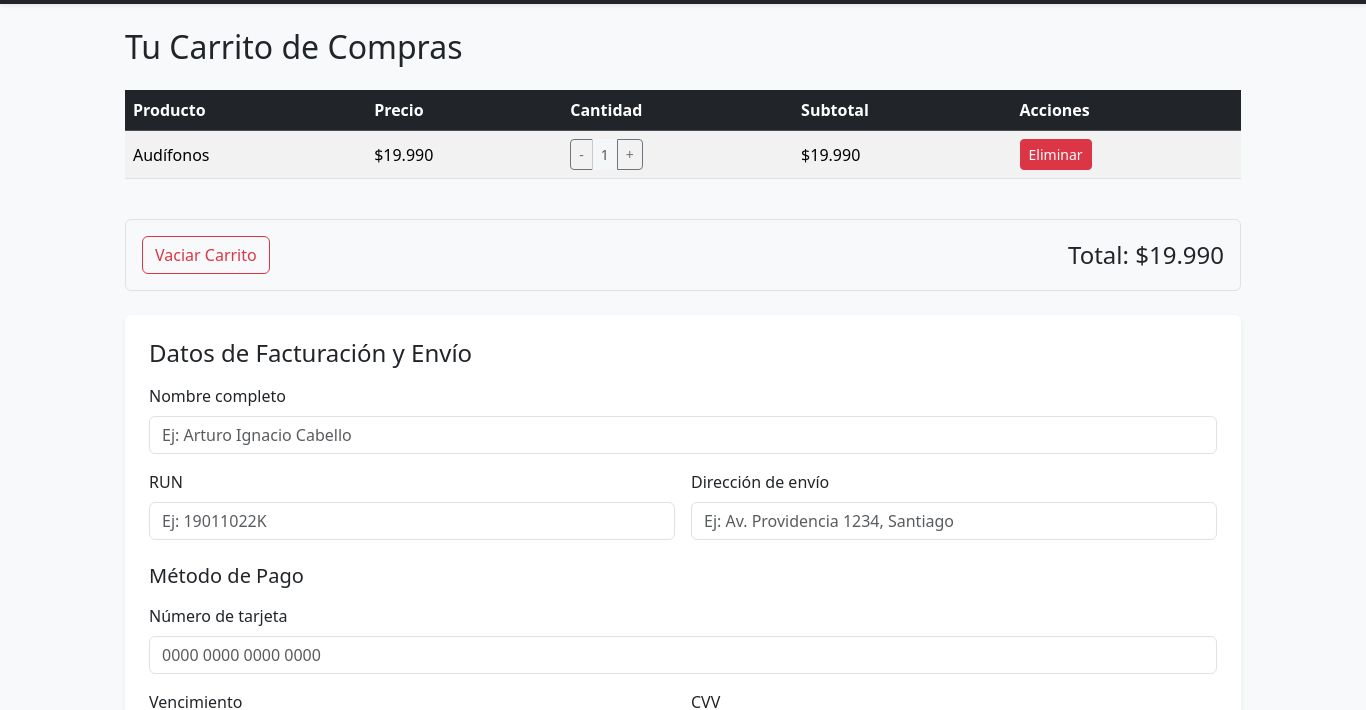
Scenario: Integración de la aplicación (App) › pagar el carrito vacía el carrito persistido
This screenshot has width=1366, height=710.
Type "Ana Pérez" into the field with test id "pago-nombre".
click(683, 435); type("Ana Pérez")  # box [149,416,1217,454]
Type "19011022K" into the field with test id "pago-run".
click(412, 521); type("19011022K")  # box [149,502,675,540]
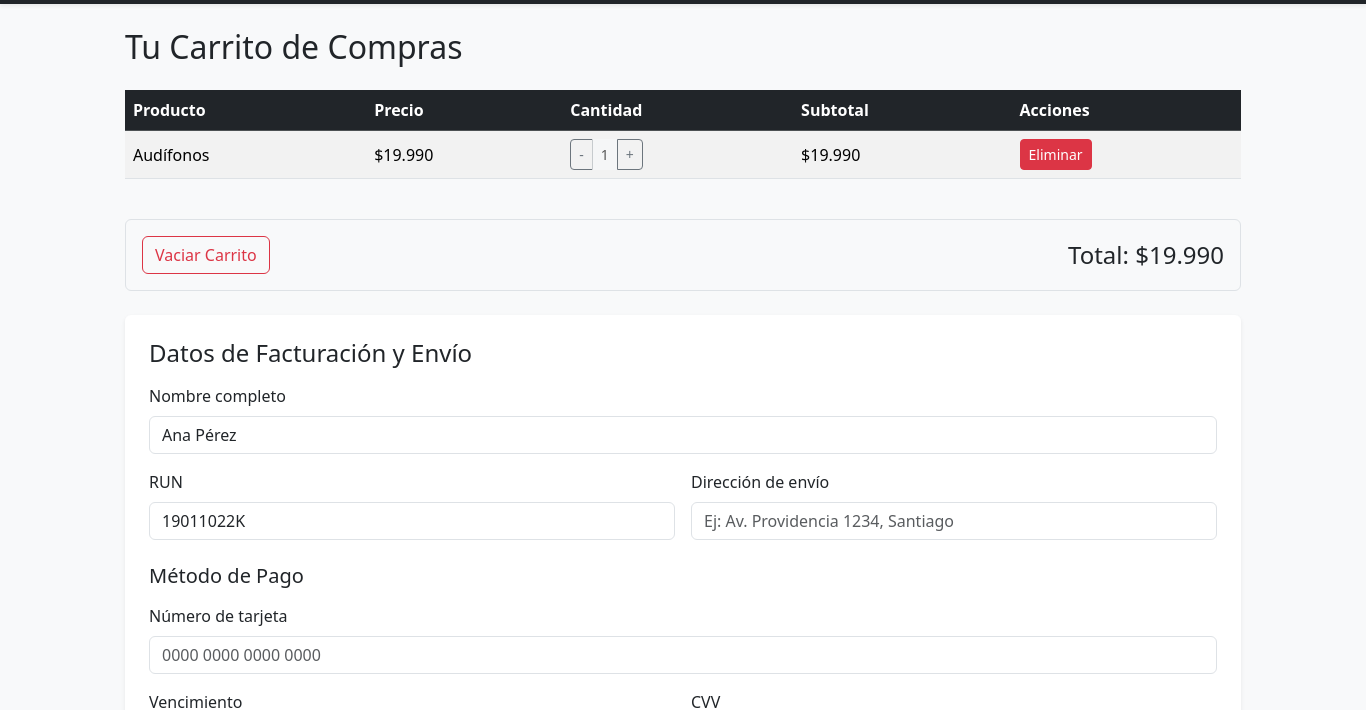
Type "Av. Providencia 123" into the field with test id "pago-direccion".
click(954, 521); type("Av. Providencia 123")  # box [691,502,1217,540]
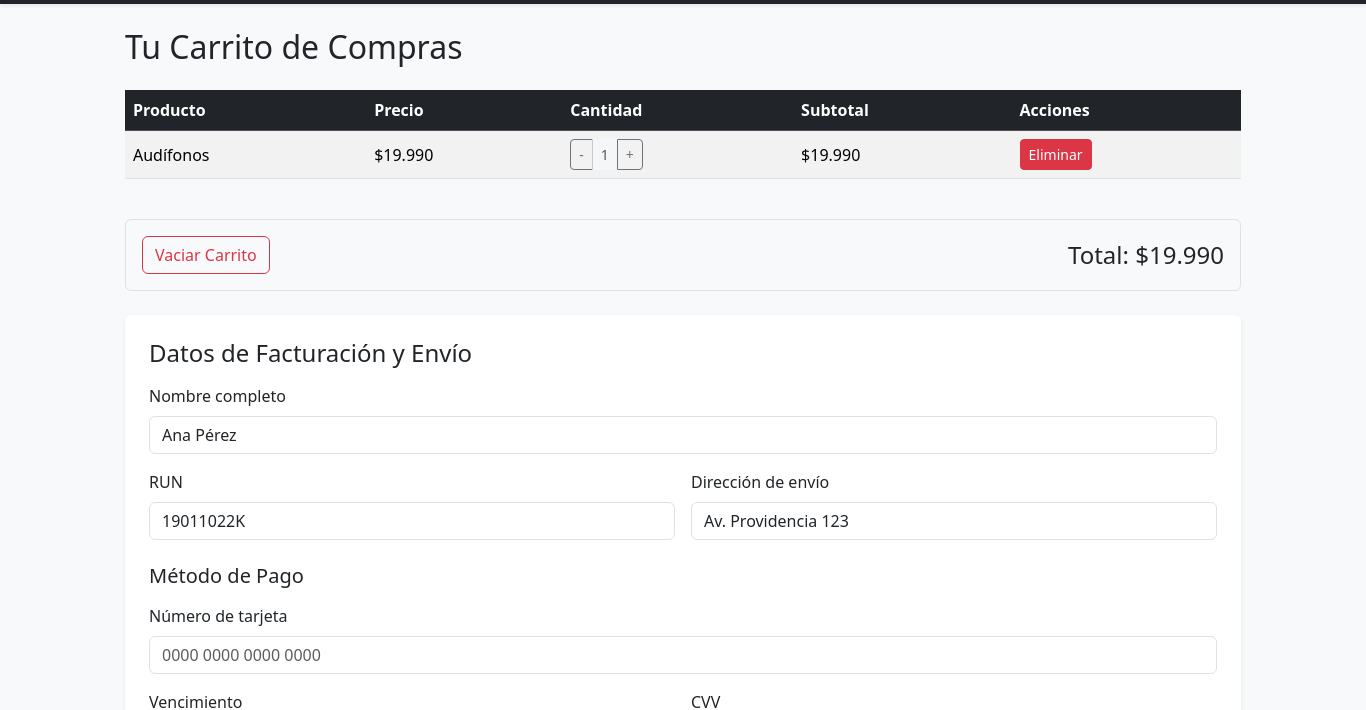
Type "1234567812345678" into the field with test id "pago-tarjeta".
click(683, 655); type("1234567812345678")  # box [149,636,1217,674]
(page scrolled)
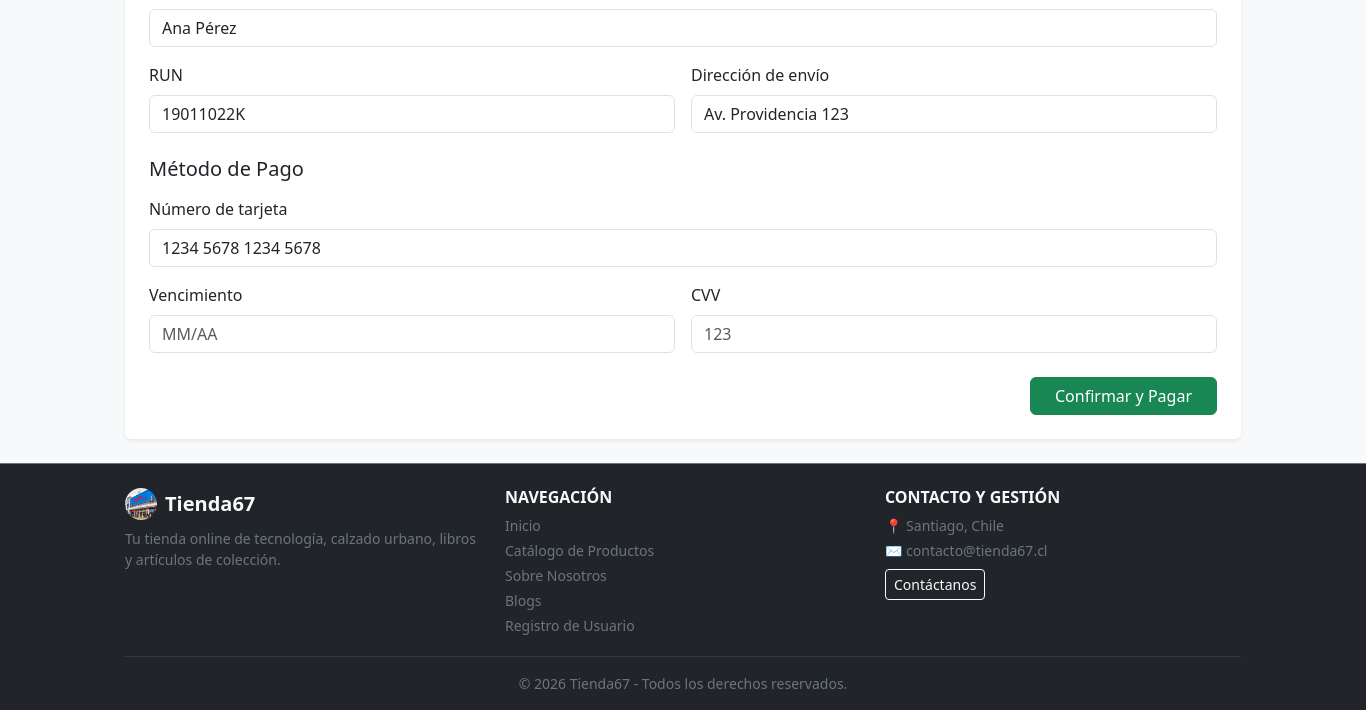
Type "1235" into the field with test id "pago-vencimiento".
click(412, 334); type("1235")  # box [149,315,675,353]
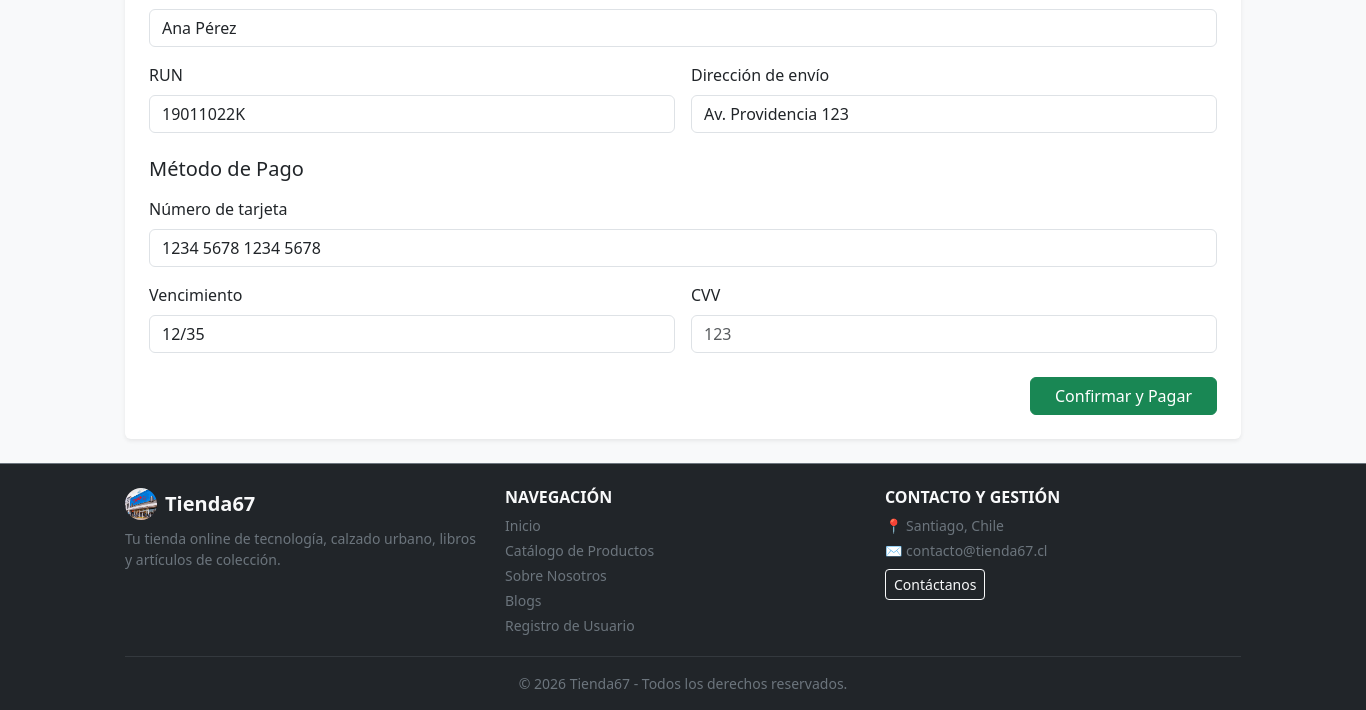
Type "123" into the password field with test id "pago-cvv".
click(954, 334); type("123")  # box [691,315,1217,353]
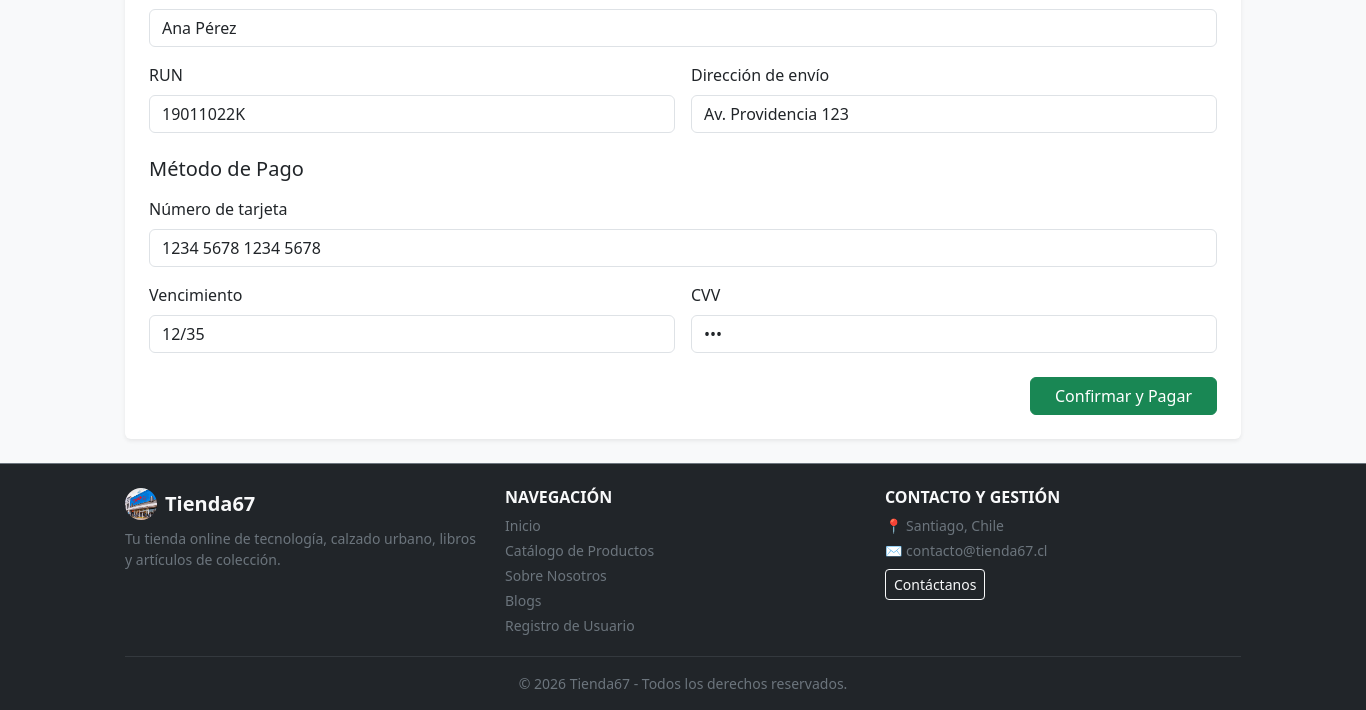
Click the button with test id "btn-pagar".
click(1124, 396)  # box [1030,377,1217,415]
(page scrolled)
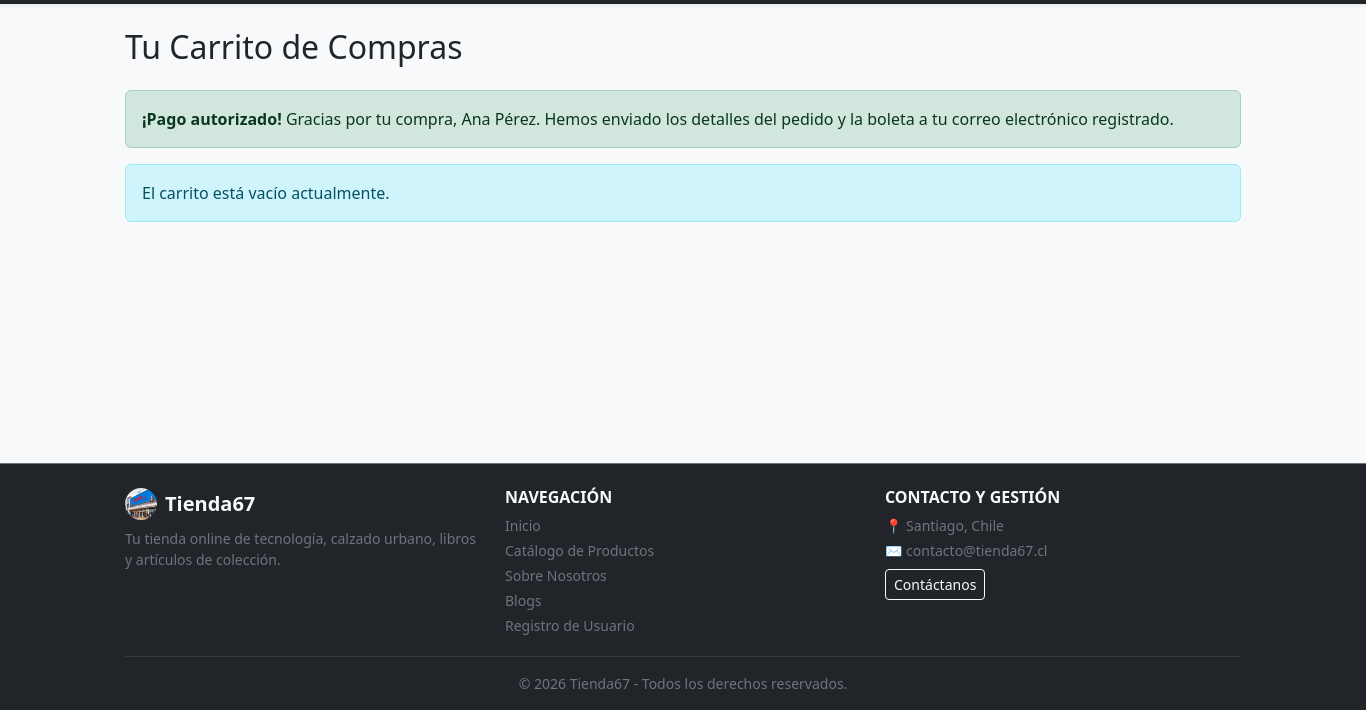
Result: the element with test id "pago-exitoso" is shown at [125,90,1241,148]
